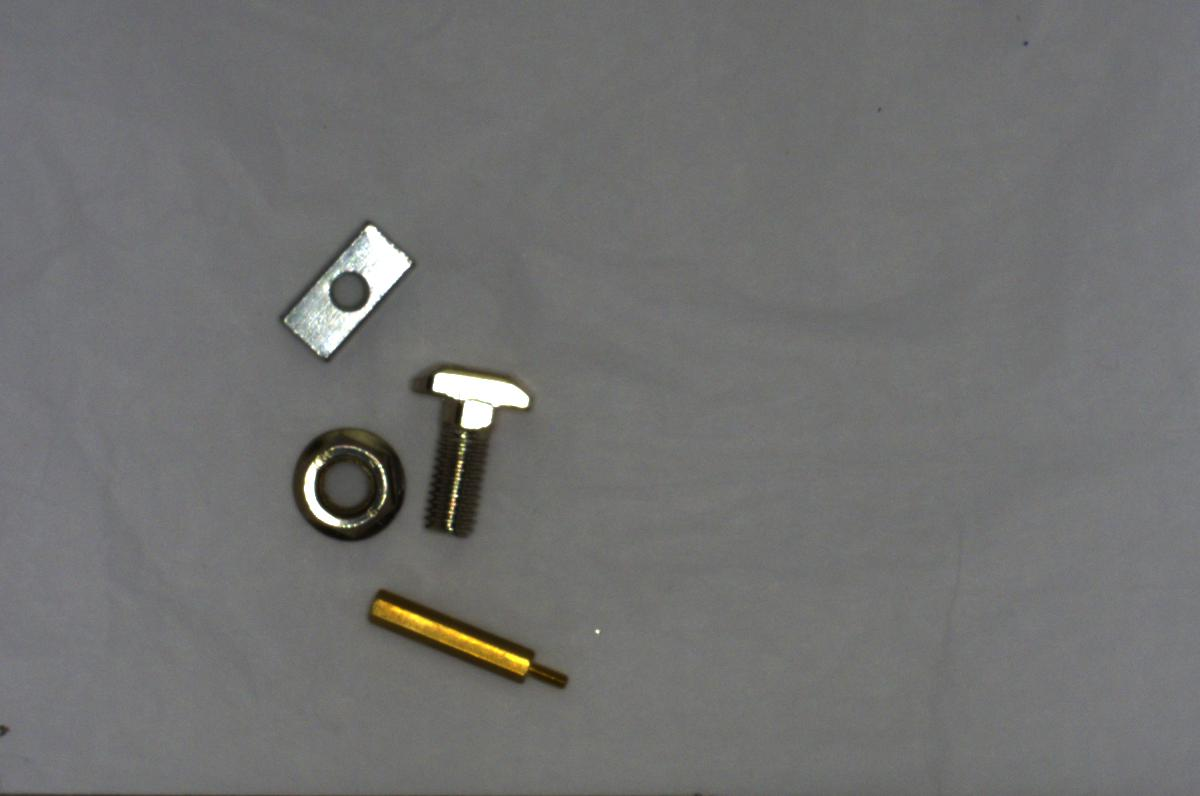Flange nut: (285, 420, 408, 542)
Hexagon pillar: (358, 579, 575, 701)
Rectangular nut: (280, 218, 415, 362)
T-shaped screw: (412, 352, 534, 540)
